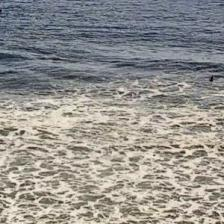surfer: (209, 76, 214, 82), (1, 8, 3, 14)
